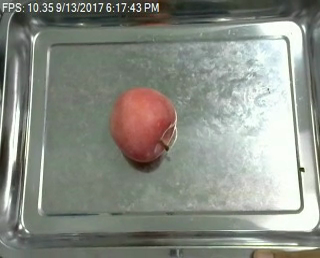Apple: (109, 83, 174, 166)
